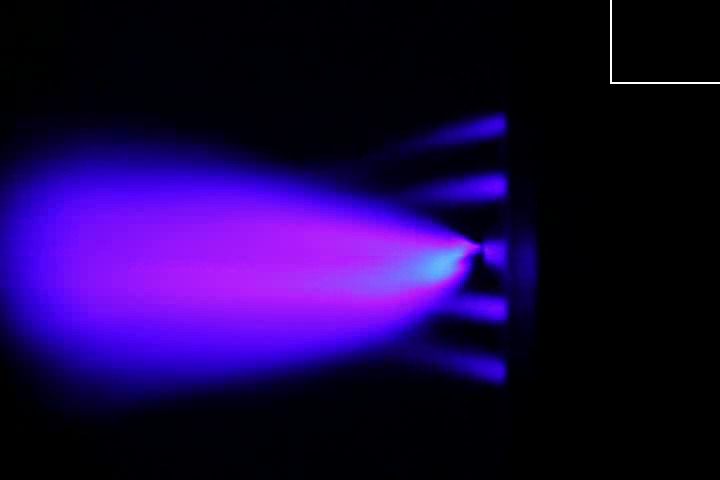burner cap: (483, 236, 515, 280)
pilot flame: (393, 342, 508, 383), (389, 117, 506, 148), (394, 172, 506, 203), (440, 291, 507, 326)
stable: (66, 205, 479, 313)
